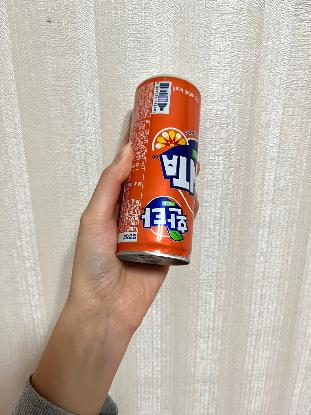Can: (114, 72, 205, 271)
